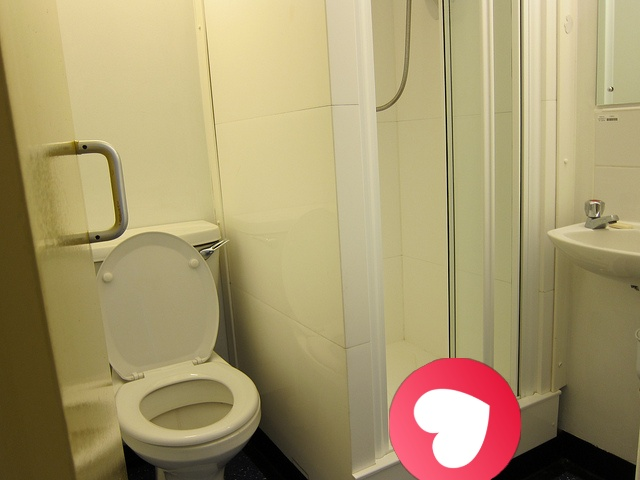love: (389, 358, 521, 480)
